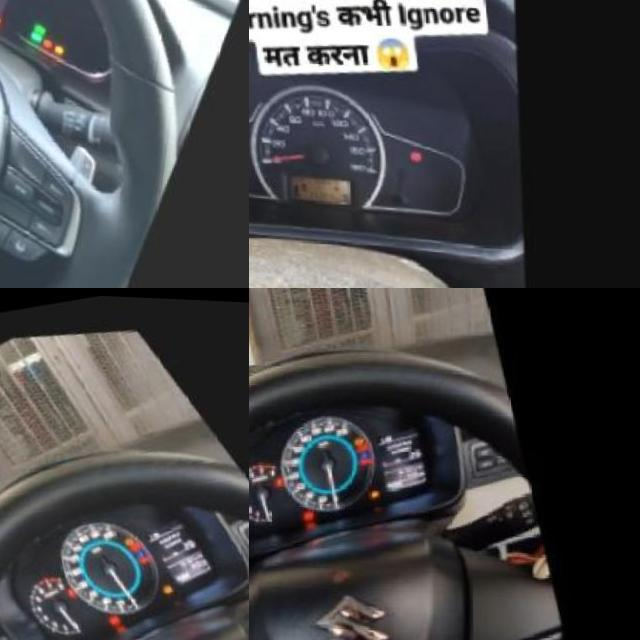Engine cooling system: (129, 541, 138, 548)
High Engine Coolant Temperature: (361, 450, 370, 459)
